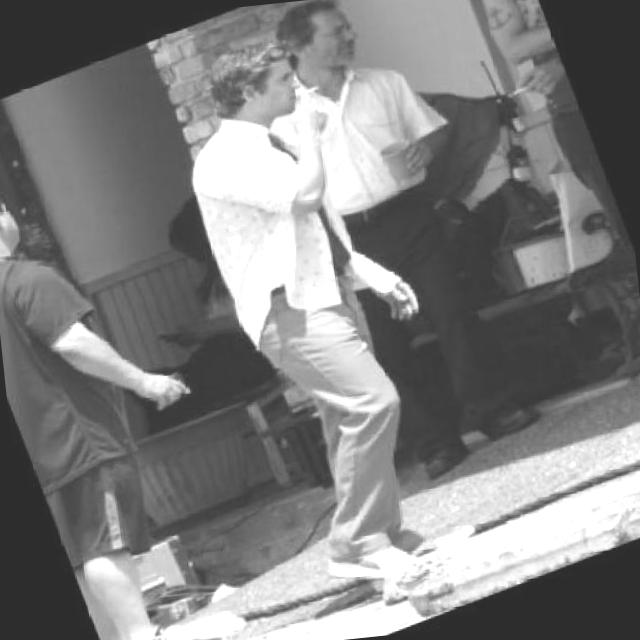smoke: (294, 84, 326, 101)
